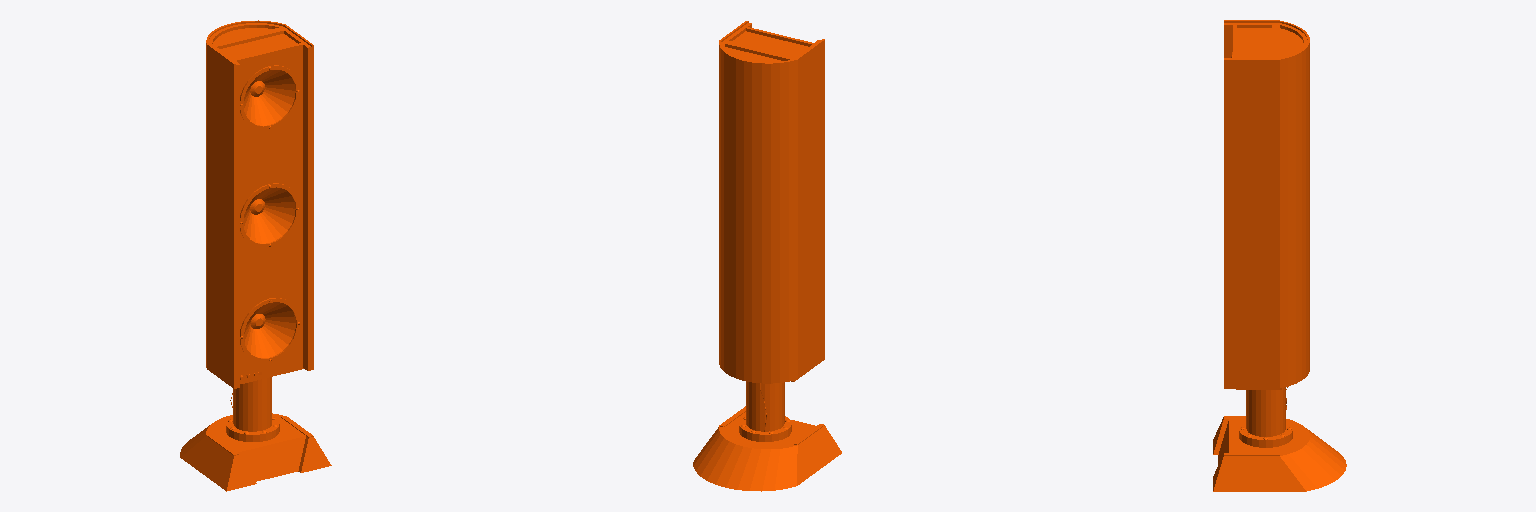
The robot description file, URDF, robot "Speaker_16d8b1fde755f7f96bc5197cc4c47fe8":
<?xml version="1.0" ?>
<robot name="Speaker_16d8b1fde755f7f96bc5197cc4c47fe8">
   <material name="obj_color">
      <color rgba="1.0 0.423529411765 0.0392156862745 1.0"/>
   </material>
   <link name="top">
      <inertial>
         <origin rpy="9.952054389364142e-06 9.992071920155908e-05 9.998254468872737e-05" xyz="8.545210994491325e-05 0.0007242138341329481 -0.002288660135620622"/>
         <mass value="0.08265741635861237"/>
         <inertia ixx="9.998254466001279e-05" ixy="4.223081350635911e-11" ixz="-3.116188049577336e-12" iyy="9.985829168705621e-05" iyz="2.369098038158588e-06" izz="1.001448193258164e-05"/>
      </inertial>
      <visual>
         <origin rpy="0 0 0" xyz="0 0 0"/>
         <geometry>
            <mesh filename="top_watertight_tiny.stl" scale="1 1 1"/>
         </geometry>
         <material name="obj_color"/>
      </visual>
      <collision>
         <origin rpy="0 0 0" xyz="0 0 0"/>
         <geometry>
            <mesh filename="top_watertight_tiny.obj" scale="1 1 1"/>
         </geometry>
      </collision>
   </link>
   <link name="bottom">
      <inertial>
         <origin rpy="1.633333333199431e-08 1.633333333199431e-08 1.633333333362855e-08" xyz="0.3464080000000008 0.3464080000000008 0.3464080000000008"/>
         <mass value="0.0009800000000000017"/>
         <inertia ixx="1.633333333253906e-08" ixy="5.447480642029219e-19" ixz="5.447480642029219e-19" iyy="1.633333333253906e-08" iyz="5.447480642029219e-19" izz="1.633333333253906e-08"/>
      </inertial>
      <visual>
         <origin rpy="0 0 0" xyz="0 0 0"/>
         <geometry>
            <mesh filename="bottom_watertight_tiny.stl" scale="1 1 1"/>
         </geometry>
         <material name="obj_color"/>
      </visual>
   </link>
   <joint name="rotation" type="revolute">
      <origin xyz="0 0 0"/>
      <axis xyz="0 0 -1"/>
      <parent link="bottom"/>
      <child link="top"/>
      <dynamics damping="1.0" friction="1.0"/>
      <limit effort="0.1" velocity="0.1" lower="0" upper="0.001"/>
   </joint>
</robot>

--- Render facts (derived) ---
3 views of the same robot in one strip: view 1: azimuth 30°, elevation 25°; view 2: azimuth 150°, elevation 25°; view 3: azimuth 270°, elevation 25° (orthographic).
Robot: Speaker_16d8b1fde755f7f96bc5197cc4c47fe8 — 2 links, 1 joints (1 revolute); root link bottom; default pose: every joint at zero.
Visible links, largest first — view 1: top; view 2: top; view 3: top.
Link boxes in pixels (x1,y1,x2,y2): top: (180, 20, 331, 491); top: (693, 21, 841, 491); top: (1213, 20, 1346, 491).
Bounding box of the posed robot: 0.0313 × 0.034 × 0.1195 m (x, y, z).
1 mesh visuals loaded from 2 distinct referenced files (1 binary STL); not drawn: 1 (reference not matched to a file when rendering).
